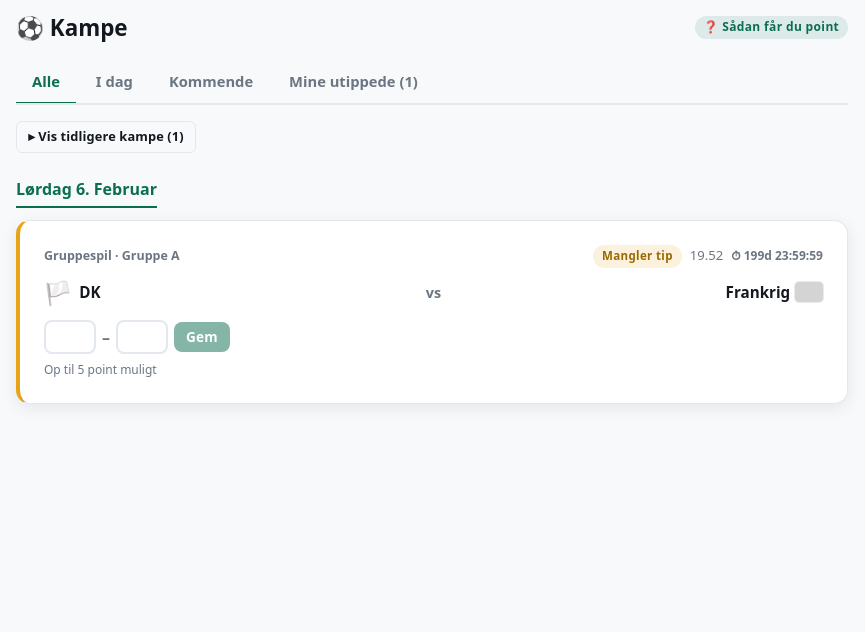
Test case: MatchesPage – visning af kampe › viser aktive kampe og folder tidligere sammen som standard
expect the number of elements with test id "match-card" is 1: met, box [16,220,848,404]
Click the button with test id "toggle-past" at (106,137), box [16,121,196,153]
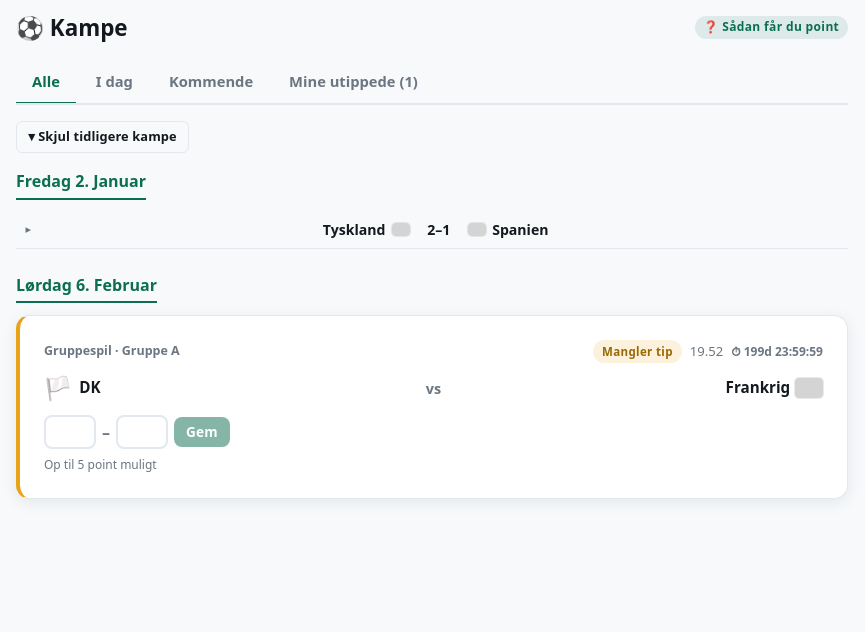
expect the number of elements with test id "match-card" is 1: met, box [16,315,848,499]
expect the text with test id "compact-result" reads "2–1": met, box [427,220,450,239]
Note: Klik folder den ud til fuldt kort.
Click the button with test id "match-row-compact" at (432,230), box [16,212,848,248]
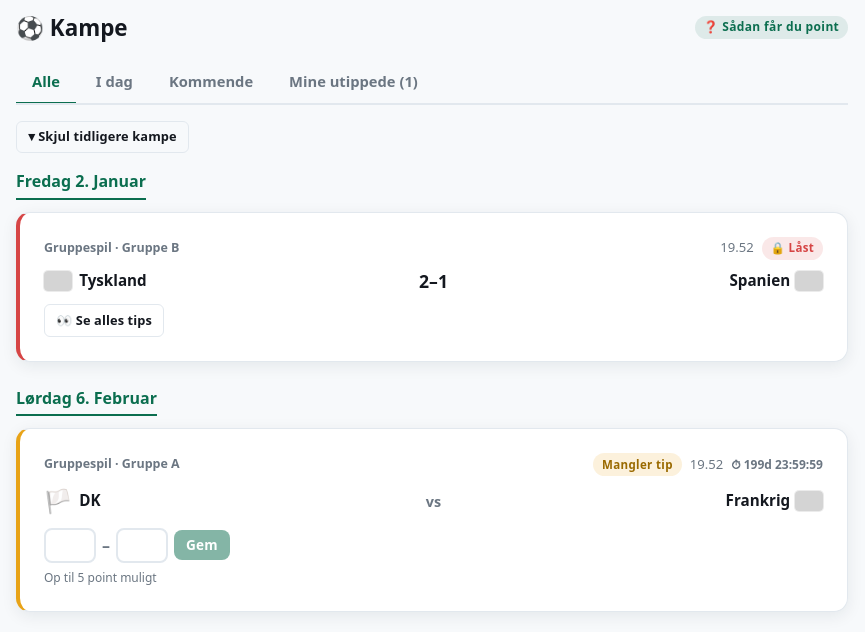
expect the number of elements with test id "match-card" is 2: met, box [16,212,848,362]; [16,428,848,612]
